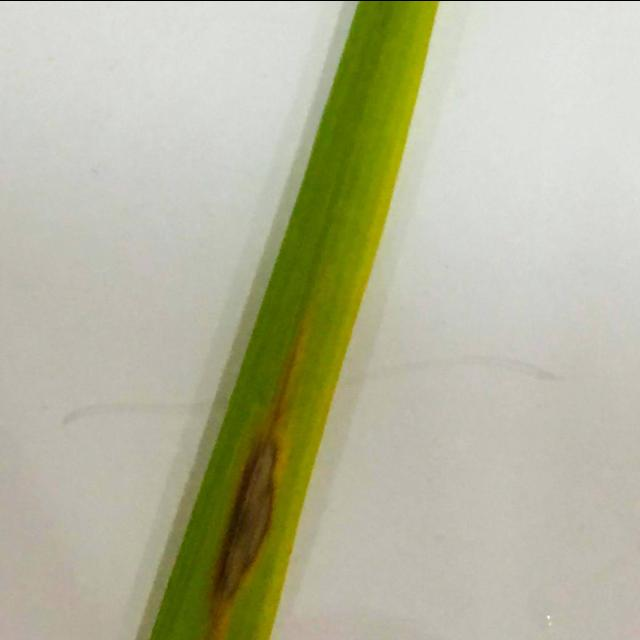Leaf blast: (112, 0, 467, 640)
